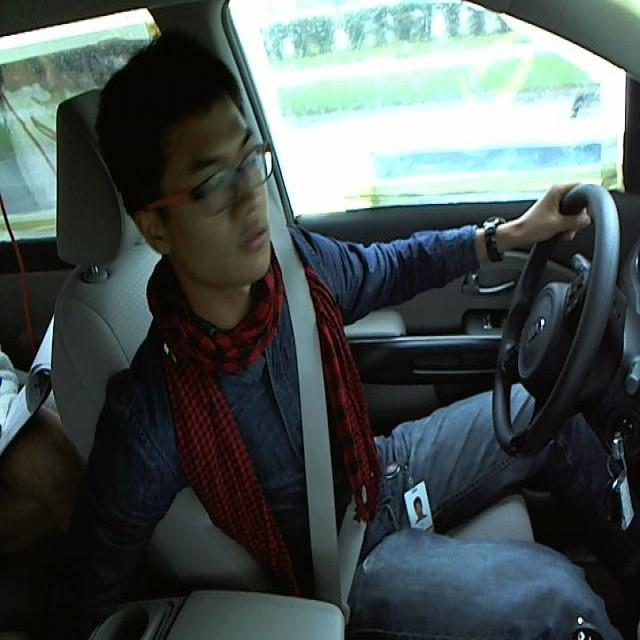seatbelt: (267, 292, 383, 587)
